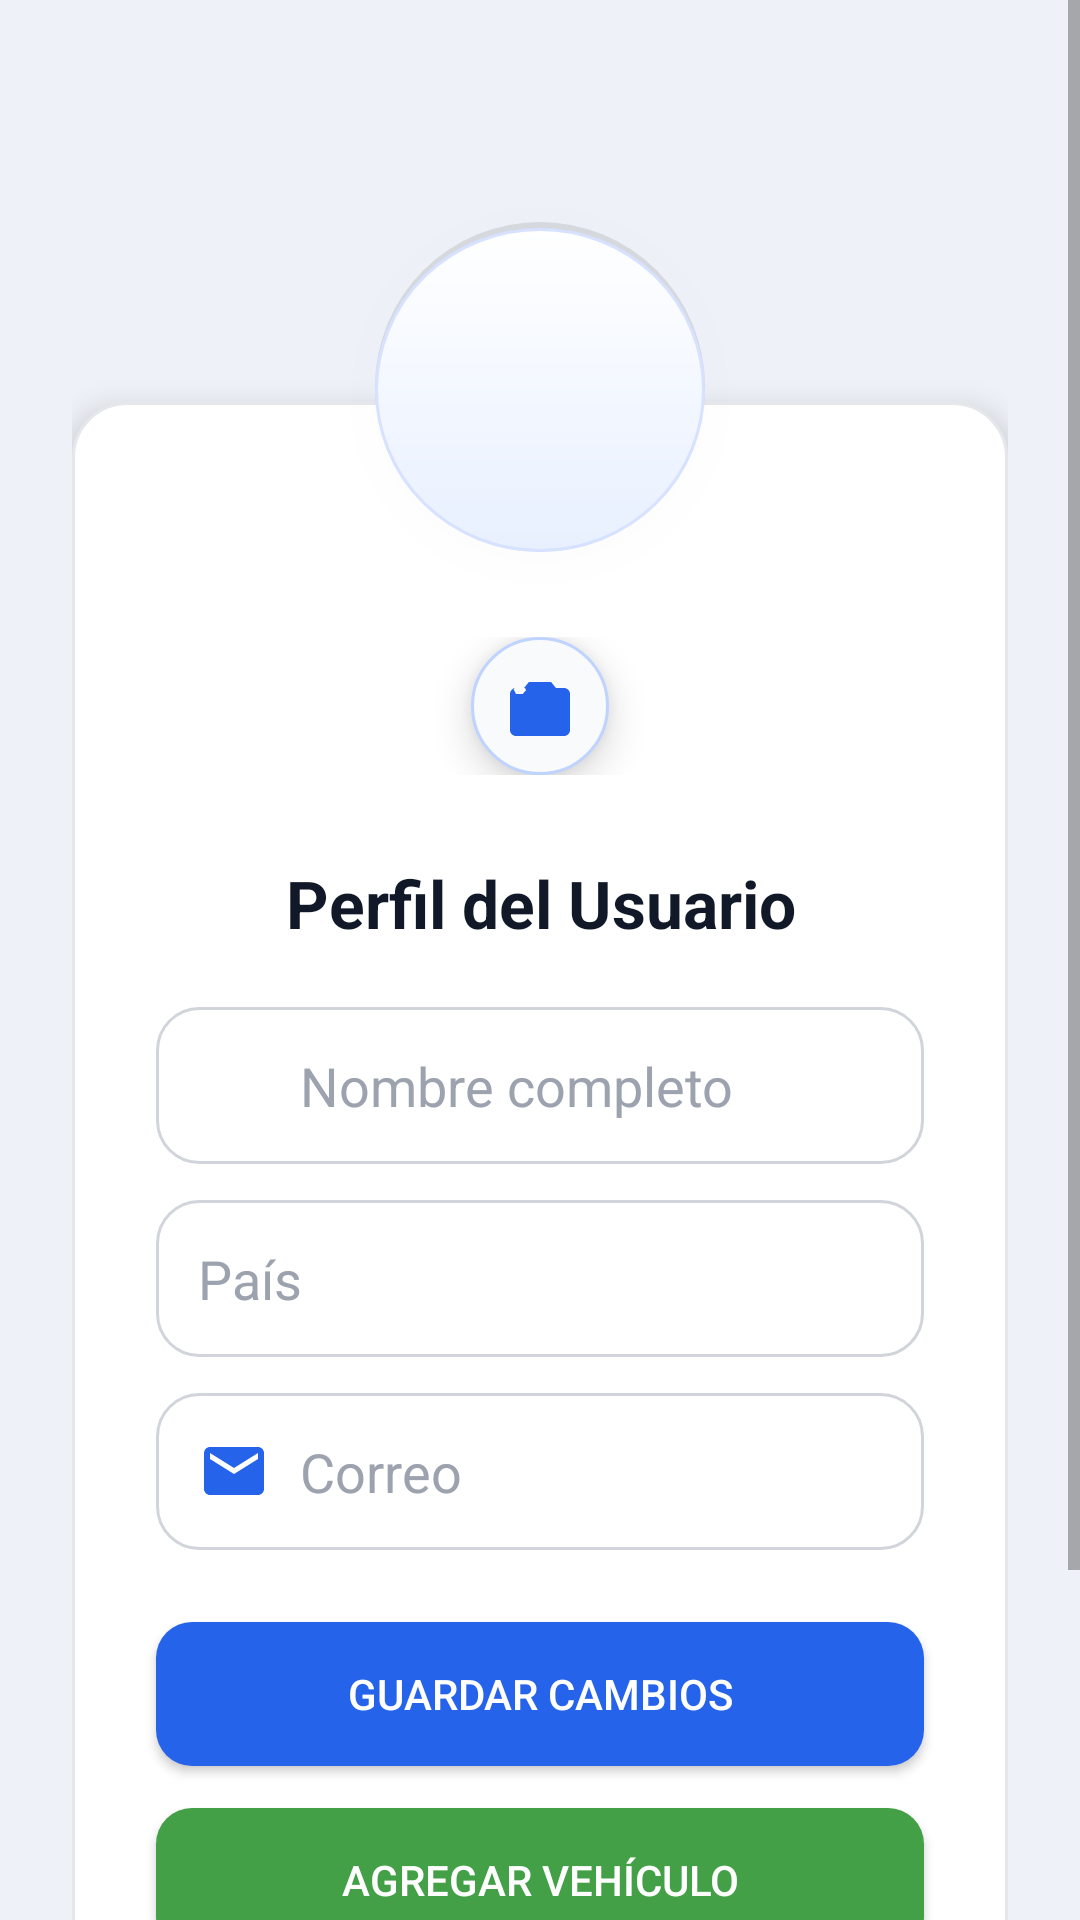

Where to tap for icons on this 1080 x 1920 app screen, as (x=x, y=y):
Cambiar foto de perfil: (x=540, y=706)
